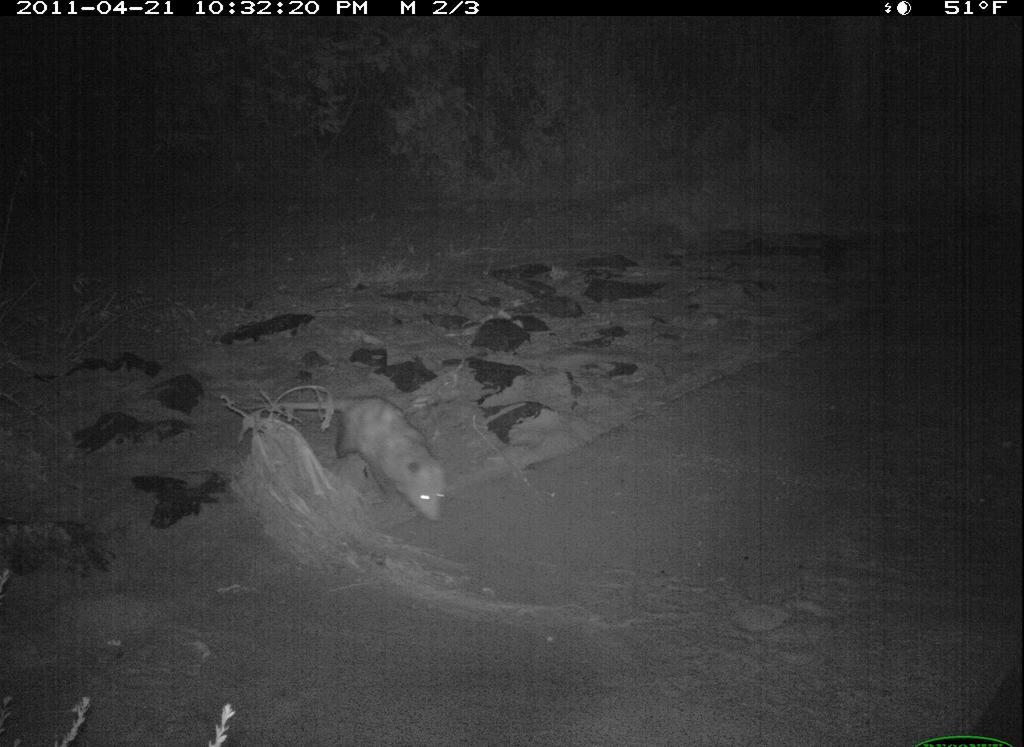opossum: (244, 379, 474, 534)
